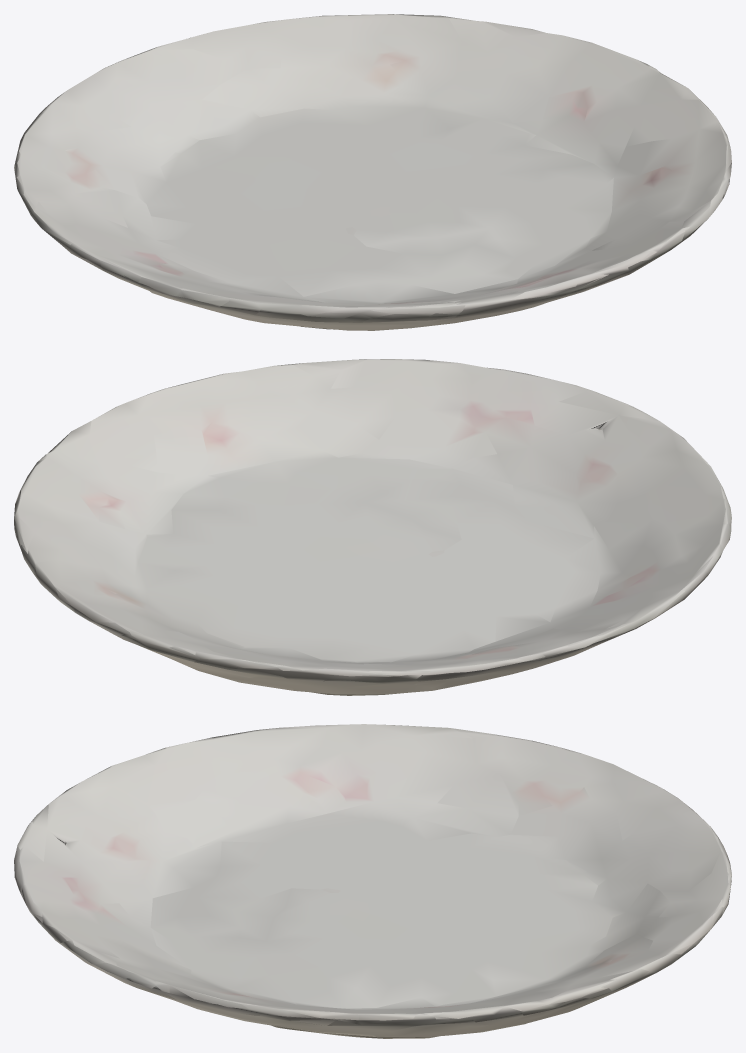
Rendered from 0001_mask_002_small_white_plate.glb.
3 views of the same model, one above another, from view 1: azimuth 30°, elevation 25°; view 2: azimuth 150°, elevation 25°; view 3: azimuth 270°, elevation 25° (orthographic).
Parts seen in each view (by area): view 1: mask_002_object; view 2: mask_002_object; view 3: mask_002_object.
Part boxes in pixels (<box>): mask_002_object: <box>14,14,731,330</box>; mask_002_object: <box>14,359,731,695</box>; mask_002_object: <box>14,724,731,1038</box>.
Size of the model in its own units: 0.13 by 0.0202 by 0.1313.
